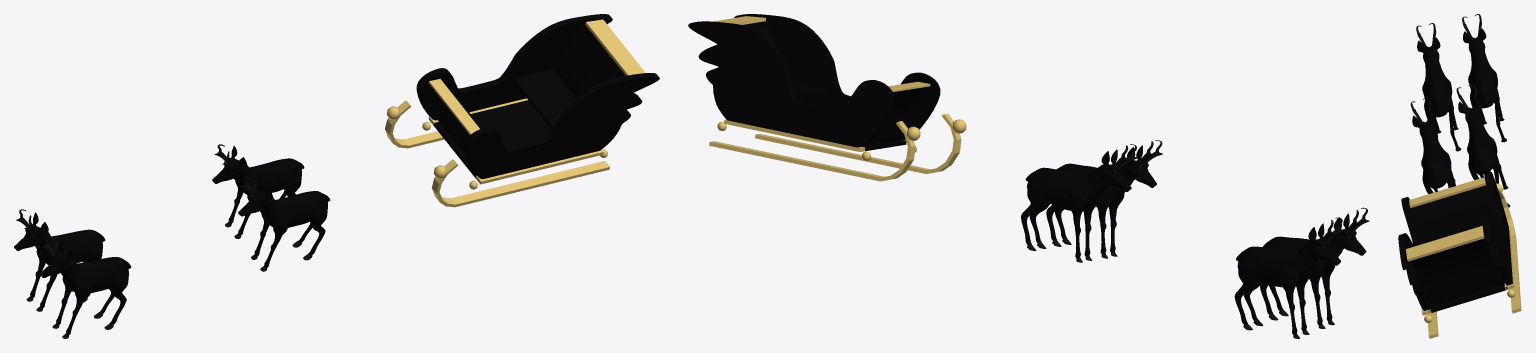
The model's file is sleigh.fbx.
3 renders of one model, left to right at view 1: azimuth 30°, elevation 25°; view 2: azimuth 150°, elevation 25°; view 3: azimuth 270°, elevation 25°, orthographic. The views are drawn at different scales.
Parts seen in each view (by area): view 1: Line04, Line02, antelope-skin04, antelope-skin03, Box06, Box05, antelope-skin02, antelope-skin05, Box03, Box08, Box10, Box6572 (+3 smaller); view 2: Line02, Line04, antelope-skin02, antelope-skin05, antelope-skin03, antelope-skin04, Box01, Box03, Box07, Box02; view 3: Box06, Box07, antelope-skin04, Line02, antelope-skin05, antelope-skin02, antelope-skin03, Line04, Box10, Box01, Box6572, Box09 (+7 smaller).
Part boxes in pixels (x1,y1,x2,y2): Line04: (463, 73, 659, 179); Line02: (416, 14, 612, 120); antelope-skin04: (41, 239, 131, 335); antelope-skin03: (239, 178, 330, 267); Box06: (553, 25, 625, 98); Box05: (433, 100, 551, 177); antelope-skin02: (213, 146, 304, 235); antelope-skin05: (15, 212, 105, 307); Box03: (432, 159, 609, 207); Box08: (513, 69, 576, 129); Box10: (585, 19, 645, 75); Box6572: (428, 78, 479, 134); Line02: (688, 21, 894, 147); Line04: (734, 14, 940, 139); antelope-skin02: (1021, 149, 1130, 258); antelope-skin05: (1234, 223, 1339, 334); antelope-skin03: (1046, 145, 1155, 253); antelope-skin04: (1260, 213, 1365, 324); Box01: (709, 121, 915, 181); Box03: (755, 113, 961, 173); Box07: (864, 86, 930, 145); Box02: (724, 119, 865, 151); Box06: (1411, 238, 1504, 306); Box07: (1411, 185, 1493, 234); antelope-skin04: (1417, 37, 1458, 149); Line02: (1481, 171, 1512, 285); antelope-skin05: (1463, 28, 1504, 140); antelope-skin02: (1458, 97, 1507, 204); antelope-skin03: (1412, 111, 1455, 193); Line04: (1398, 197, 1429, 310); Box10: (1406, 226, 1484, 261); Box01: (1497, 187, 1521, 313); Box6572: (1409, 177, 1485, 208); Box09: (1419, 212, 1495, 244).
Size of the model in its own units: 4907 by 1335 by 937.
